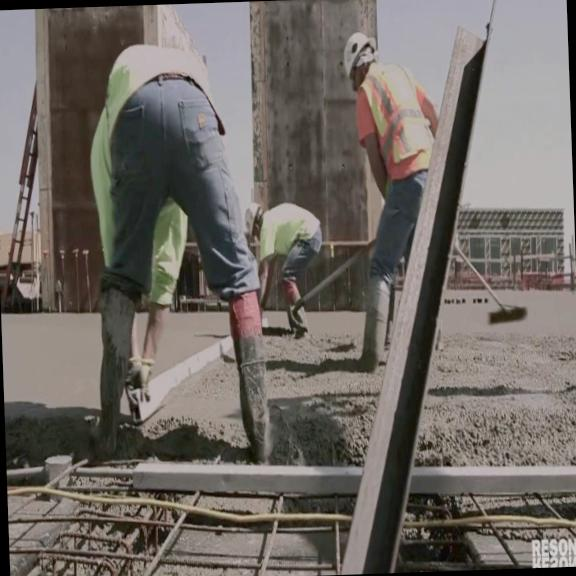safety_vest: (358, 60, 436, 164)
